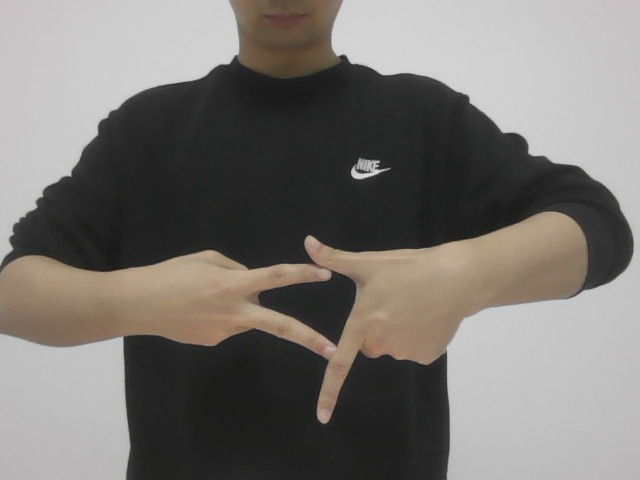introduce: (123, 219, 458, 426)
